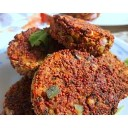cutlet: (32, 52, 120, 114), (51, 14, 116, 53), (8, 29, 56, 71), (3, 74, 36, 115)
